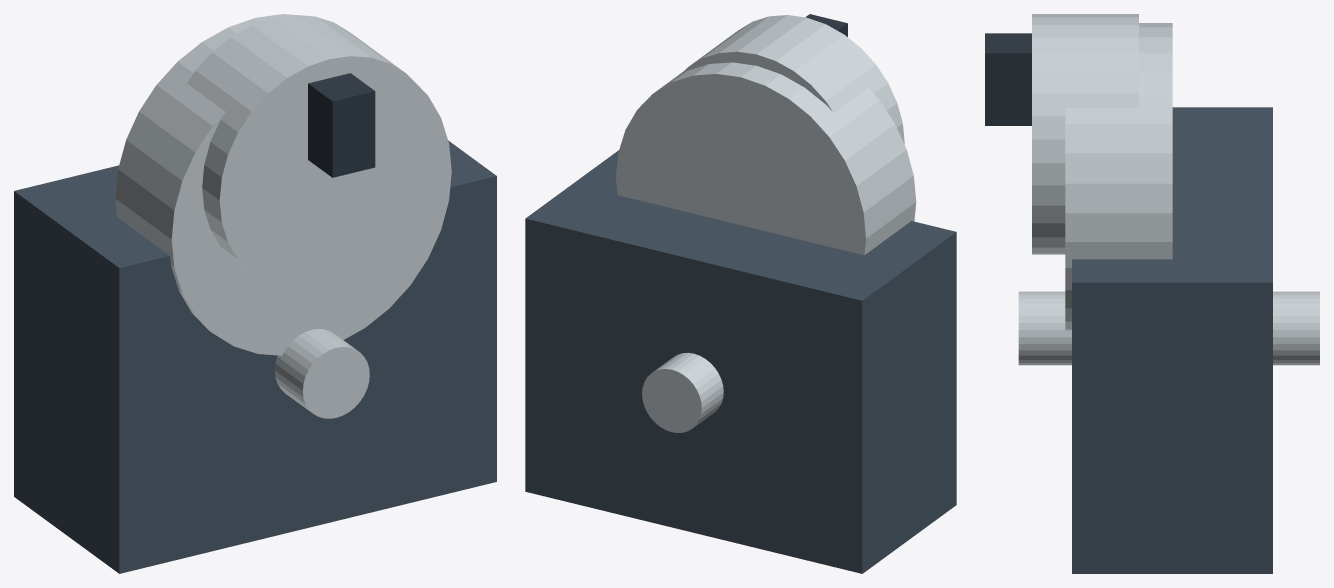
The model's file is selector.glb.
The picture shows the model from 3 angles, left to right: view 1: azimuth 30°, elevation 25°; view 2: azimuth 150°, elevation 25°; view 3: azimuth 270°, elevation 25°; orthographic projection. The views are drawn at different scales.
Visible parts, largest first — view 1: selector_0, selector_2, selector_1, selector_3, selector_5; view 2: selector_0, selector_1, selector_2, selector_4; view 3: selector_0, selector_1, selector_2, selector_3, selector_5, selector_4.
Boxes of the visible parts, x1=… form: selector_0: x1=14, y1=140, x2=496, y2=573; selector_2: x1=187, y1=15, x2=438, y2=291; selector_1: x1=115, y1=14, x2=451, y2=355; selector_3: x1=308, y1=73, x2=375, y2=177; selector_5: x1=274, y1=329, x2=369, y2=418; selector_0: x1=525, y1=150, x2=956, y2=573; selector_1: x1=616, y1=62, x2=916, y2=255; selector_2: x1=680, y1=15, x2=904, y2=144; selector_4: x1=642, y1=353, x2=723, y2=432; selector_0: x1=1072, y1=107, x2=1272, y2=573; selector_1: x1=1065, y1=23, x2=1172, y2=330; selector_2: x1=1032, y1=14, x2=1138, y2=254; selector_3: x1=985, y1=33, x2=1031, y2=125; selector_5: x1=1018, y1=291, x2=1071, y2=365; selector_4: x1=1273, y1=291, x2=1319, y2=365.
Bounding box in the file's own units: 0.62 × 0.76 × 0.5.
